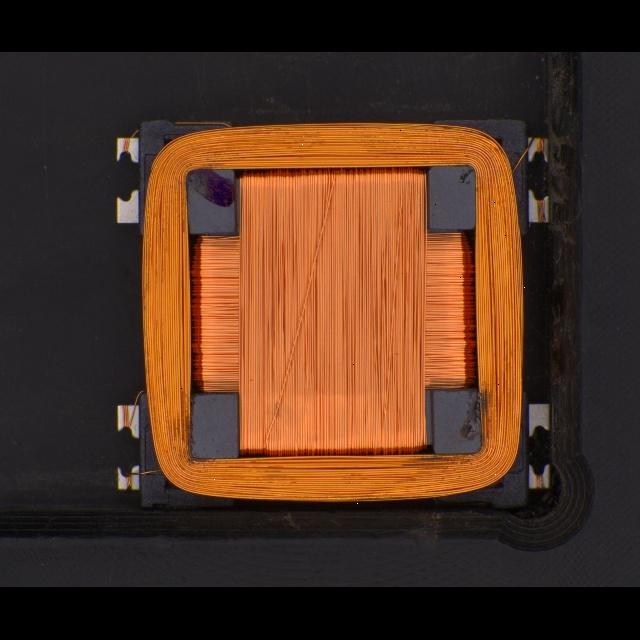Winding_Z: (136, 119, 527, 504)
